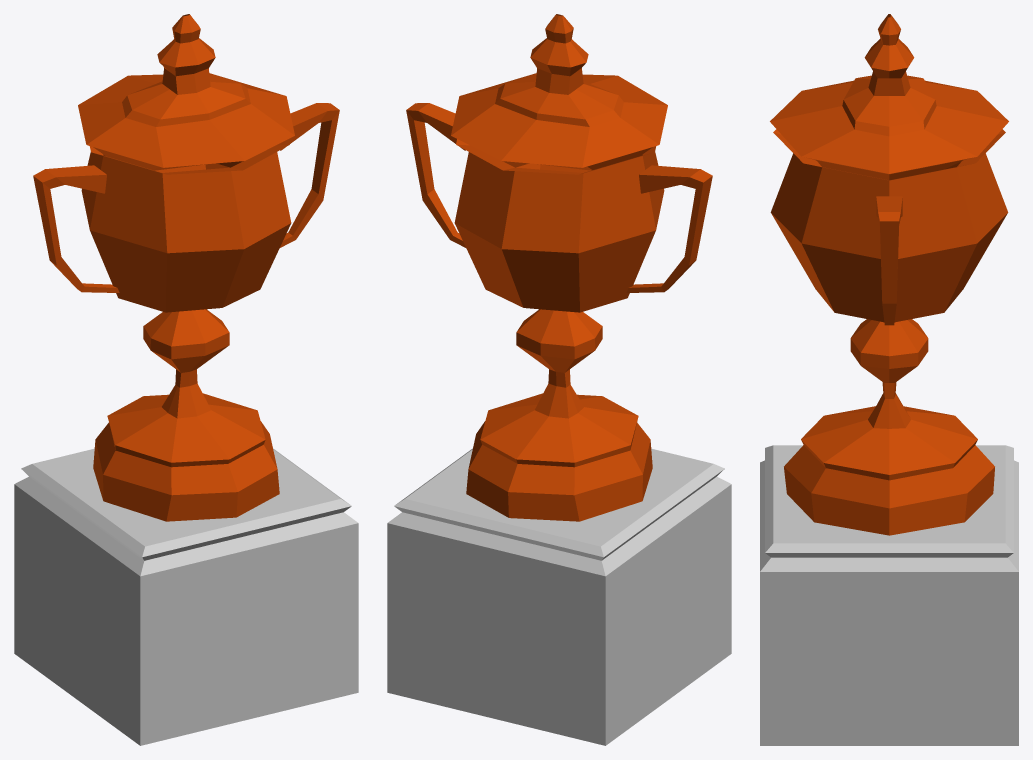
Rendered from Mesh_Trophy.obj.
The picture shows the model from 3 angles, left to right: view 1: azimuth 30°, elevation 25°; view 2: azimuth 150°, elevation 25°; view 3: azimuth 270°, elevation 25°; orthographic projection. The views are drawn at different scales.
Visible parts, largest first — view 1: Wood_Cube.001; view 2: Wood_Cube.001; view 3: Wood_Cube.001.
Part boxes in pixels (x1,y1,x2,y2): Wood_Cube.001: (14, 14, 358, 745); Wood_Cube.001: (387, 14, 731, 745); Wood_Cube.001: (760, 14, 1018, 745).
Size of the model in its own units: 6.95 by 14.7 by 5.11.
